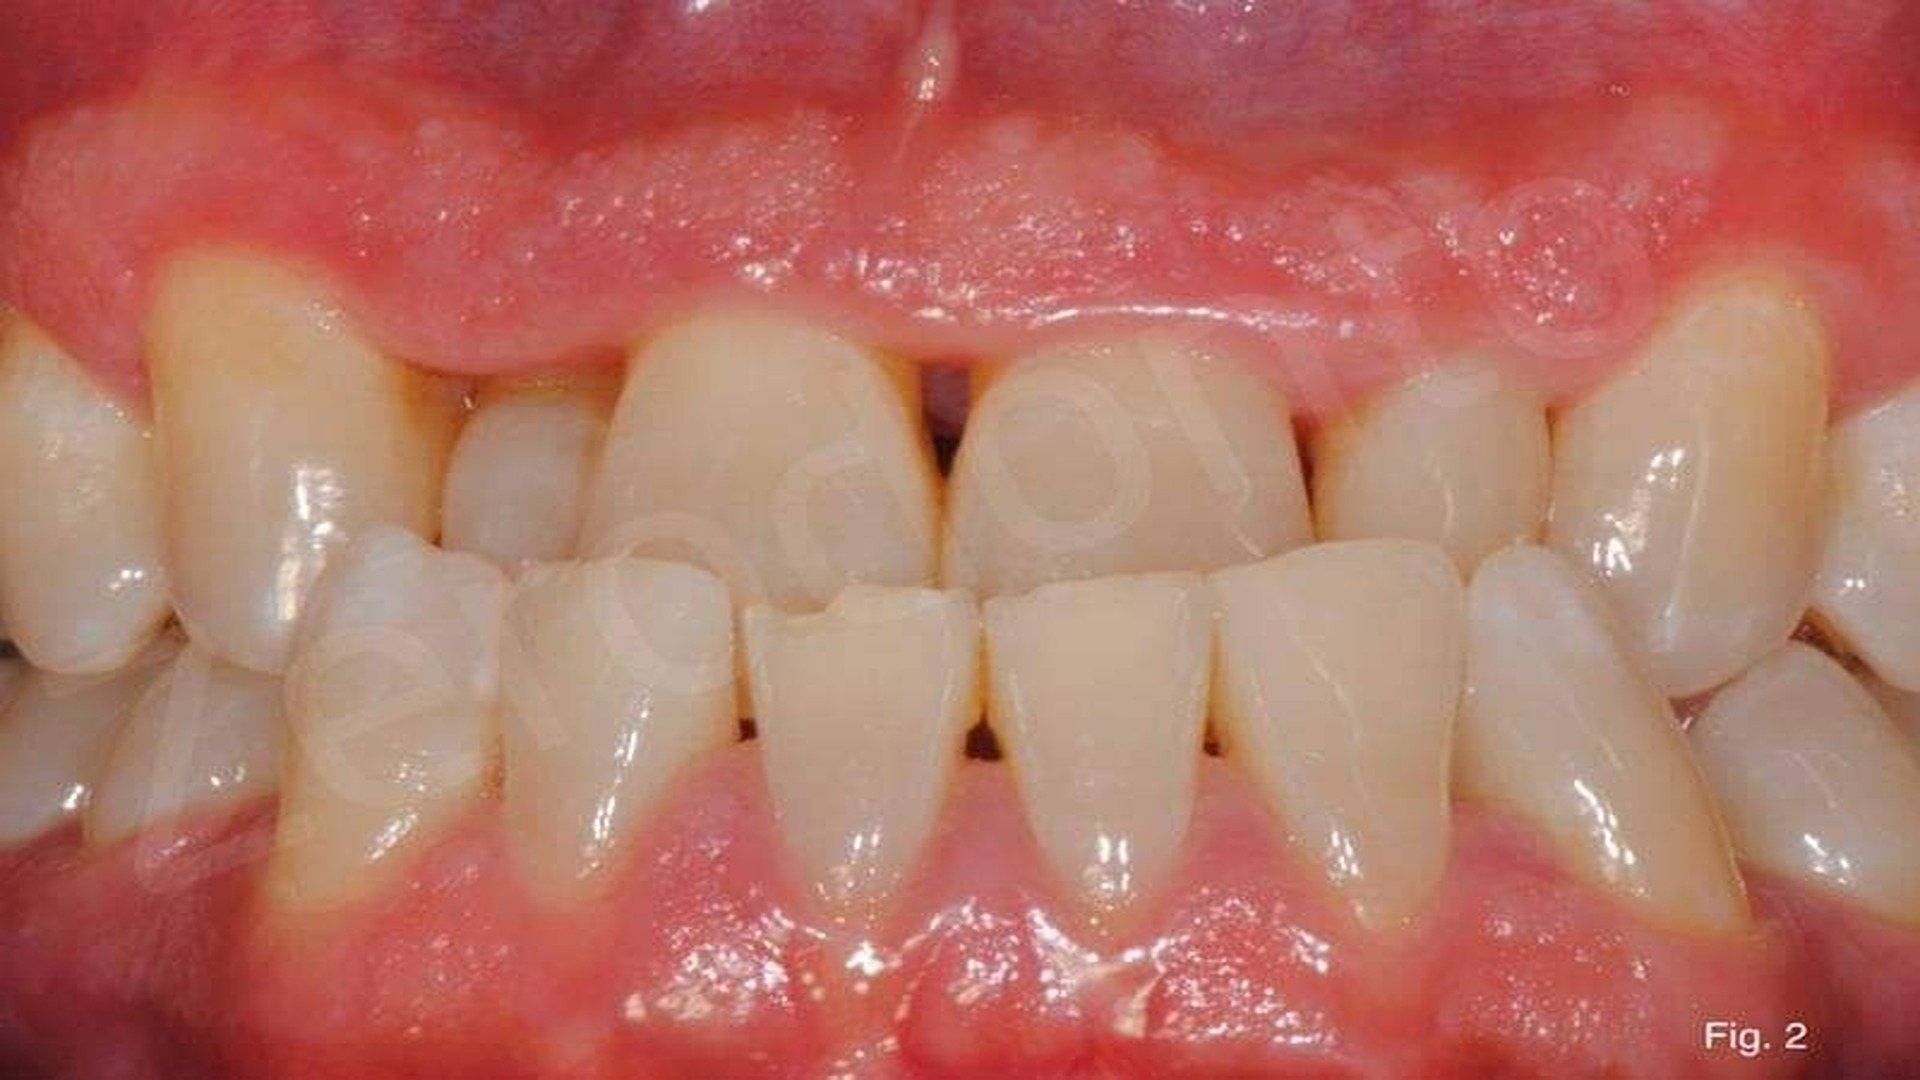tooth: (144, 247, 440, 674), (1547, 272, 1830, 699), (1451, 541, 1753, 936), (578, 313, 943, 615), (1211, 539, 1466, 931), (266, 522, 504, 913), (982, 574, 1215, 942), (498, 556, 737, 909), (740, 584, 981, 915), (1, 305, 171, 676)
